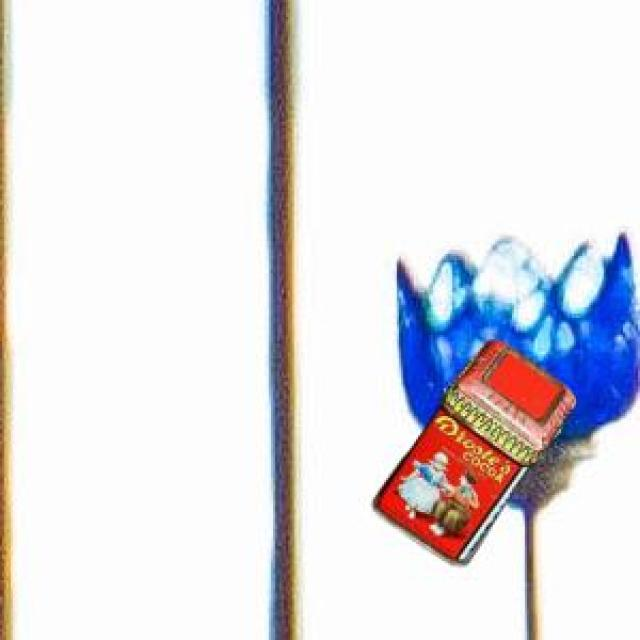logam: (370, 338, 573, 562)
